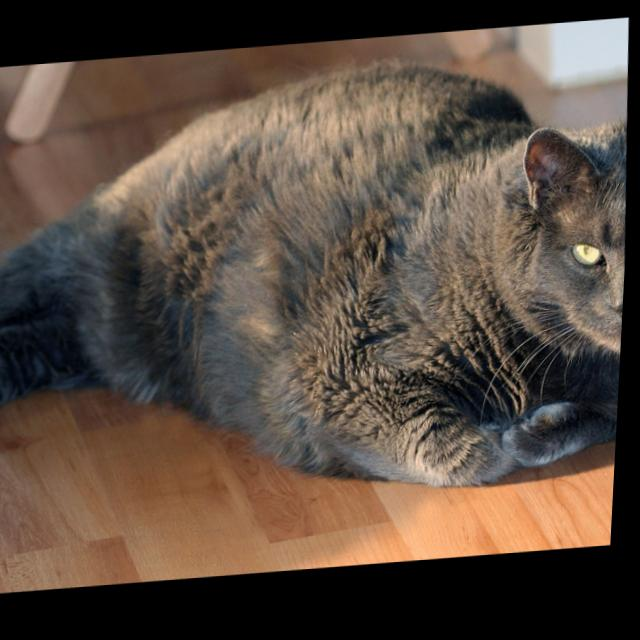animals: (530, 130, 634, 333)
